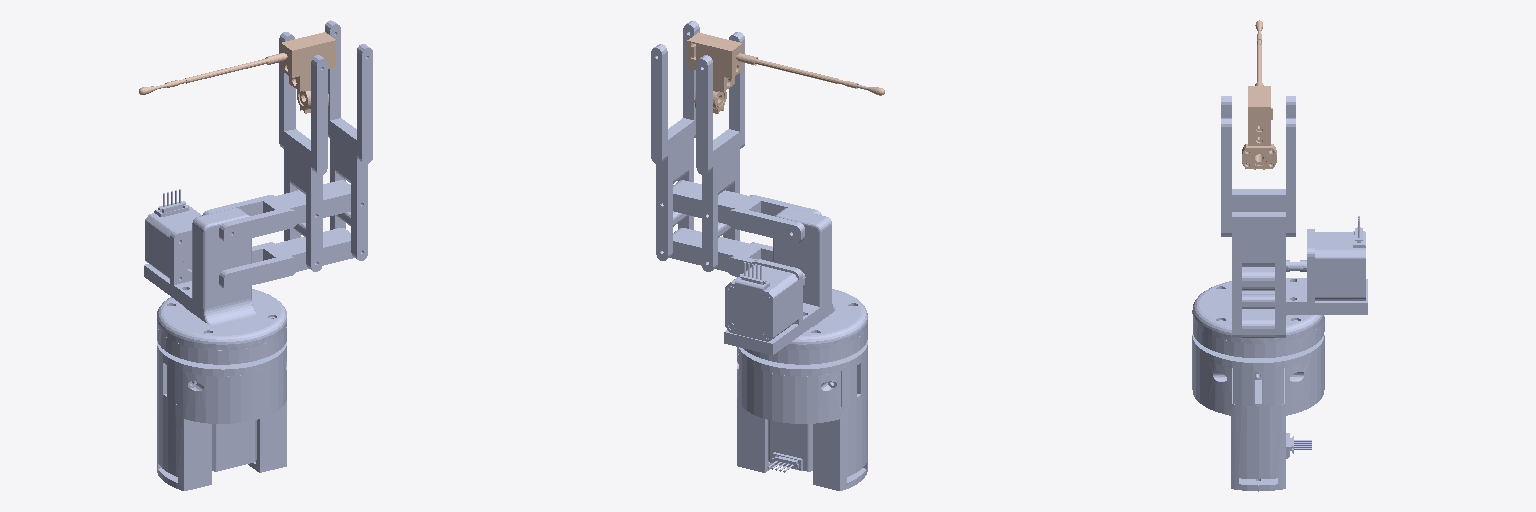
URDF robot description (rcm):
<?xml version="1.0" encoding="utf-8"?>
<!-- This URDF was automatically created by SolidWorks to URDF Exporter! Originally created by [author] ([email redacted]) 
     Commit Version: 1.6.0-1-g15f4949  Build Version: 1.6.7594.29634
     For more information, please see http://wiki.ros.org/sw_urdf_exporter -->
<robot
  name="rcm">
  <link
    name="base_link">
    <inertial>
      <origin
        xyz="-1.7214E-06 -0.00015696 0.053136"
        rpy="0 0 0" />
      <mass
        value="0.54888" />
      <inertia
        ixx="0.00051158"
        ixy="1.3334E-09"
        ixz="-1.4584E-09"
        iyy="0.00064416"
        iyz="-1.873E-09"
        izz="0.00063919" />
    </inertial>
    <visual>
      <origin
        xyz="0 0 0"
        rpy="0 0 0" />
      <geometry>
        <mesh
          filename="package://rcm/meshes/base_link.STL" />
      </geometry>
      <material
        name="">
        <color
          rgba="0.79216 0.81961 0.93333 1" />
      </material>
    </visual>
    <collision>
      <origin
        xyz="0 0 0"
        rpy="0 0 0" />
      <geometry>
        <mesh
          filename="package://rcm/meshes/base_link.STL" />
      </geometry>
    </collision>
  </link>
  <link
    name="Link1">
    <inertial>
      <origin
        xyz="-1.0426E-06 0.017456 0.033231"
        rpy="0 0 0" />
      <mass
        value="0.34082" />
      <inertia
        ixx="0.00024163"
        ixy="-1.1458E-12"
        ixz="-4.6996E-14"
        iyy="0.00025274"
        iyz="2.9218E-06"
        izz="0.00025121" />
    </inertial>
    <visual>
      <origin
        xyz="0 0 0"
        rpy="0 0 0" />
      <geometry>
        <mesh
          filename="package://rcm/meshes/Link1.STL" />
      </geometry>
      <material
        name="">
        <color
          rgba="0.79216 0.81961 0.93333 1" />
      </material>
    </visual>
    <collision>
      <origin
        xyz="0 0 0"
        rpy="0 0 0" />
      <geometry>
        <mesh
          filename="package://rcm/meshes/Link1.STL" />
      </geometry>
    </collision>
  </link>
  <joint
    name="Link1_joint"
    type="revolute">
    <origin
      xyz="0 0 0.098695"
      rpy="0 0 0" />
    <parent
      link="base_link" />
    <child
      link="Link1" />
    <axis
      xyz="0 0 1" />
    <limit
      lower="-10"
      upper="10"
      effort="10"
      velocity="10" />
  </joint>
  <link
    name="Link2_1">
    <inertial>
      <origin
        xyz="0.055013 -5.3701E-12 0.00034718"
        rpy="0 0 0" />
      <mass
        value="0.044237" />
      <inertia
        ixx="4.5719E-06"
        ixy="-1.4076E-10"
        ixz="2.5464E-10"
        iyy="4.1666E-05"
        iyz="-1.2118E-14"
        izz="3.8711E-05" />
    </inertial>
    <visual>
      <origin
        xyz="0 0 0"
        rpy="0 0 0" />
      <geometry>
        <mesh
          filename="package://rcm/meshes/Link2_1.STL" />
      </geometry>
      <material
        name="">
        <color
          rgba="0.79216 0.81961 0.93333 1" />
      </material>
    </visual>
    <collision>
      <origin
        xyz="0 0 0"
        rpy="0 0 0" />
      <geometry>
        <mesh
          filename="package://rcm/meshes/Link2_1.STL" />
      </geometry>
    </collision>
  </link>
  <joint
    name="Link2_1_joint"
    type="revolute">
    <origin
      xyz="0 0 0.055554"
      rpy="-1.5708 0 0" />
    <parent
      link="Link1" />
    <child
      link="Link2_1" />
    <axis
      xyz="0 0 1" />
    <limit
      lower="-10"
      upper="10"
      effort="10"
      velocity="10" />
    <mimic
      joint="Link2_1_joint"
      multiplier="1"
      offset="0" />
  </joint>
  <link
    name="Link3_1">
    <inertial>
      <origin
        xyz="0.078951 -1.1102E-16 1.1102E-16"
        rpy="0 0 0" />
      <mass
        value="0.043996" />
      <inertia
        ixx="1.4695E-05"
        ixy="1.4229E-19"
        ixz="-9.7168E-21"
        iyy="0.00010124"
        iyz="1.2196E-20"
        izz="8.7267E-05" />
    </inertial>
    <visual>
      <origin
        xyz="0 0 0"
        rpy="0 0 0" />
      <geometry>
        <mesh
          filename="package://rcm/meshes/Link3_1.STL" />
      </geometry>
      <material
        name="">
        <color
          rgba="0.79216 0.81961 0.93333 1" />
      </material>
    </visual>
    <collision>
      <origin
        xyz="0 0 0"
        rpy="0 0 0" />
      <geometry>
        <mesh
          filename="package://rcm/meshes/Link3_1.STL" />
      </geometry>
    </collision>
  </link>
  <joint
    name="Link3_1_joint"
    type="revolute">
    <origin
      xyz="0.072 0 0"
      rpy="0 0 -1.5708" />
    <parent
      link="Link2_1" />
    <child
      link="Link3_1" />
    <axis
      xyz="0 0 1" />
    <limit
      lower="-10"
      upper="10"
      effort="10"
      velocity="10" />
  </joint>
  <link
    name="Link_ee">
    <inertial>
      <origin
        xyz="-0.0019955 -0.022493 0.00050357"
        rpy="0 0 0" />
      <mass
        value="0.092307" />
      <inertia
        ixx="1.7415E-05"
        ixy="-1.8139E-07"
        ixz="3.0732E-11"
        iyy="9.6059E-05"
        iyz="-5.5841E-12"
        izz="9.4065E-05" />
    </inertial>
    <visual>
      <origin
        xyz="0 0 0"
        rpy="0 0 0" />
      <geometry>
        <mesh
          filename="package://rcm/meshes/Link_ee.STL" />
      </geometry>
      <material
        name="">
        <color
          rgba="0.84314 0.81569 0.75294 1" />
      </material>
    </visual>
    <collision>
      <origin
        xyz="0 0 0"
        rpy="0 0 0" />
      <geometry>
        <mesh
          filename="package://rcm/meshes/Link_ee.STL" />
      </geometry>
    </collision>
  </link>
  <joint
    name="Link_ee_joint"
    type="revolute">
    <origin
      xyz="0.1675 0.04 0"
      rpy="0 0 -1.5708" />
    <parent
      link="Link3_1" />
    <child
      link="Link_ee" />
    <axis
      xyz="0 0 1" />
    <limit
      lower="-10"
      upper="10"
      effort="10"
      velocity="10" />
  </joint>
  <link
    name="Link_E">
    <inertial>
      <origin
        xyz="0.028599 0.00046138 0.00729"
        rpy="0 0 0" />
      <mass
        value="0.023256" />
      <inertia
        ixx="2.0848E-06"
        ixy="7.5146E-09"
        ixz="-6.1806E-09"
        iyy="2.7906E-06"
        iyz="1.1288E-08"
        izz="1.8708E-06" />
    </inertial>
    <visual>
      <origin
        xyz="0 0 0"
        rpy="0 0 0" />
      <geometry>
        <mesh
          filename="package://rcm/meshes/Link_E.STL" />
      </geometry>
      <material
        name="">
        <color
          rgba="0.89412 0.79216 0.73333 1" />
      </material>
    </visual>
    <collision>
      <origin
        xyz="0 0 0"
        rpy="0 0 0" />
      <geometry>
        <mesh
          filename="package://rcm/meshes/Link_E.STL" />
      </geometry>
    </collision>
  </link>
  <joint
    name="Link_E_joint"
    type="prismatic">
    <origin
      xyz="0.032512 -0.037 0"
      rpy="1.5708 0 1.5381" />
    <parent
      link="Link_ee" />
    <child
      link="Link_E" />
    <axis
      xyz="0 0 1" />
    <limit
      lower="-0.03"
      upper="0.04"
      effort="10"
      velocity="10" />
  </joint>
  <link
    name="Link3_2">
    <inertial>
      <origin
        xyz="0.078951 -2.2204E-16 0"
        rpy="0 0 0" />
      <mass
        value="0.043996" />
      <inertia
        ixx="1.4695E-05"
        ixy="1.7597E-19"
        ixz="-7.3583E-21"
        iyy="0.00010124"
        iyz="-2.2739E-22"
        izz="8.7267E-05" />
    </inertial>
    <visual>
      <origin
        xyz="0 0 0"
        rpy="0 0 0" />
      <geometry>
        <mesh
          filename="package://rcm/meshes/Link3_2.STL" />
      </geometry>
      <material
        name="">
        <color
          rgba="0.79216 0.81961 0.93333 1" />
      </material>
    </visual>
    <collision>
      <origin
        xyz="0 0 0"
        rpy="0 0 0" />
      <geometry>
        <mesh
          filename="package://rcm/meshes/Link3_2.STL" />
      </geometry>
    </collision>
  </link>
  <joint
    name="Link3_2_joint"
    type="revolute">
    <origin
      xyz="0.112 0 0"
      rpy="0 0 -1.5708" />
    <parent
      link="Link2_1" />
    <child
      link="Link3_2" />
    <axis
      xyz="0 0 1" />
    <limit
      lower="-10"
      upper="10"
      effort="10"
      velocity="10" />
    <mimic
      joint="Link3_1_joint"
      multiplier="1"
      offset="0" />
  </joint>
  <link
    name="Link2_2">
    <inertial>
      <origin
        xyz="0.061889 8.3267E-17 -0.0001"
        rpy="0 0 0" />
      <mass
        value="0.039322" />
      <inertia
        ixx="4.29E-06"
        ixy="8.939E-24"
        ixz="1.022E-18"
        iyy="4.6463E-05"
        iyz="2.6082E-22"
        izz="4.3641E-05" />
    </inertial>
    <visual>
      <origin
        xyz="0 0 0"
        rpy="0 0 0" />
      <geometry>
        <mesh
          filename="package://rcm/meshes/Link2_2.STL" />
      </geometry>
      <material
        name="">
        <color
          rgba="0.79216 0.81961 0.93333 1" />
      </material>
    </visual>
    <collision>
      <origin
        xyz="0 0 0"
        rpy="0 0 0" />
      <geometry>
        <mesh
          filename="package://rcm/meshes/Link2_2.STL" />
      </geometry>
    </collision>
  </link>
  <joint
    name="Link2_2_joint"
    type="revolute">
    <origin
      xyz="0 0 0.095554"
      rpy="-1.5708 0 0" />
    <parent
      link="Link1" />
    <child
      link="Link2_2" />
    <axis
      xyz="0 0 1" />
    <limit
      lower="-10"
      upper="10"
      effort="10"
      velocity="10" />
    <mimic
      joint="Link2_1_joint"
      multiplier="1"
      offset="0" />
  </joint>
</robot>

--- Facts derived from the render (not from the file) ---
The picture shows the robot from 3 angles, left to right: view 1: azimuth 30°, elevation 25°; view 2: azimuth 150°, elevation 25°; view 3: azimuth 270°, elevation 25°; orthographic projection.
Model rcm with 8 links and 7 joints (6 revolute, 1 prismatic), rooted at base_link, posed every joint at zero.
Visible links, largest first — view 1: Link1, base_link, Link3_1, Link3_2, Link2_2, Link2_1, Link_E; view 2: base_link, Link1, Link3_1, Link3_2, Link2_2, Link_E, Link2_1; view 3: base_link, Link1, Link3_2, Link_E, Link3_1, Link2_1, Link2_2.
Link boxes in pixels (x1,y1,x2,y2): Link1: (144,189,286,364); base_link: (157,341,286,490); Link3_1: (279,32,327,271); Link3_2: (325,20,372,260); Link2_2: (202,180,350,243); Link2_1: (219,228,354,290); Link_E: (139,32,335,113); base_link: (737,340,867,490); Link1: (724,208,867,364); Link3_1: (696,32,744,271); Link3_2: (651,21,699,260); Link2_2: (673,180,821,243); Link_E: (687,32,884,113); Link2_1: (670,228,805,286); base_link: (1192,335,1324,491); Link1: (1192,216,1367,357); Link3_2: (1221,118,1295,337); Link_E: (1242,20,1276,169); Link3_1: (1221,96,1295,211); Link2_1: (1242,260,1306,337); Link2_2: (1242,267,1274,290).
Size in the robot's own frame: 0.1894 by 0.1325 by 0.342 metres.
Meshes: 8 distinct files referenced, 7 mesh visuals loaded (7 binary STL); not drawn: 1 (reference not matched to a file when rendering).